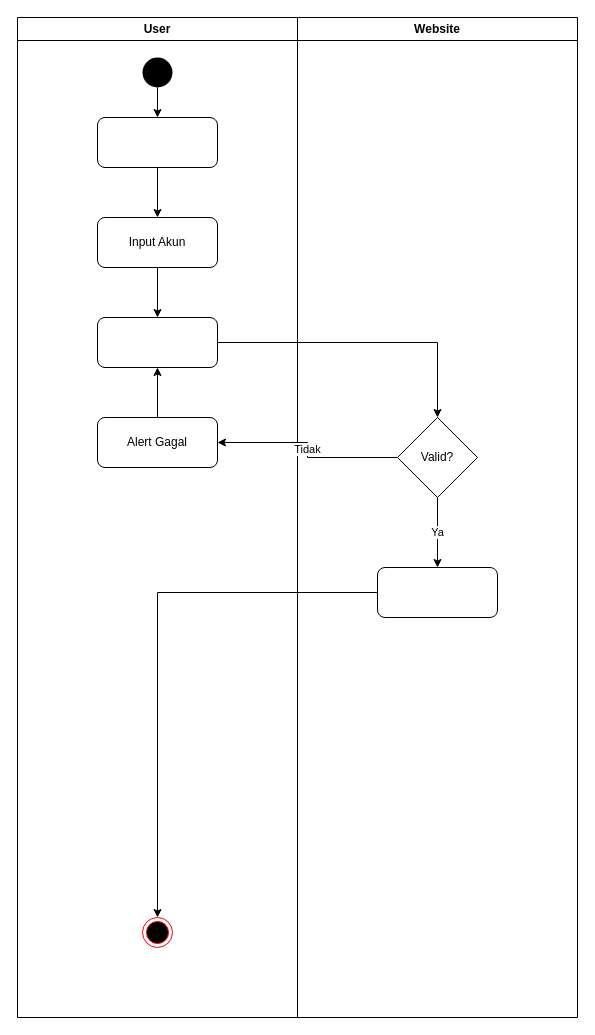
Some shapes in this 595 by 1035 pixel diagram are drawn without their labels. Each missing label, with the centre of its shape:
Akses Website: point (157, 142)
Dashboard: point (437, 592)
Klik Login: point (157, 342)
